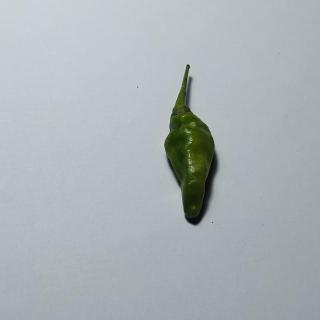Cabai Hijau: (161, 61, 224, 227)
